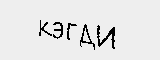Г: (65, 22, 77, 41)
Д: (78, 24, 97, 49)
И: (97, 24, 120, 52)
К: (37, 19, 54, 39)
Э: (51, 20, 64, 41)
